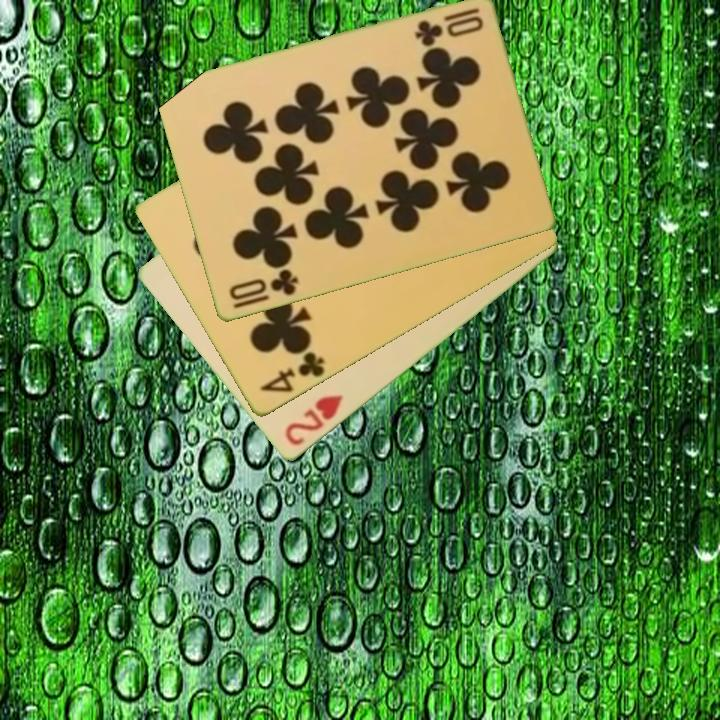10c: (410, 5, 486, 49), (225, 266, 301, 304)
2h: (281, 391, 346, 449)
4c: (256, 348, 328, 397)
